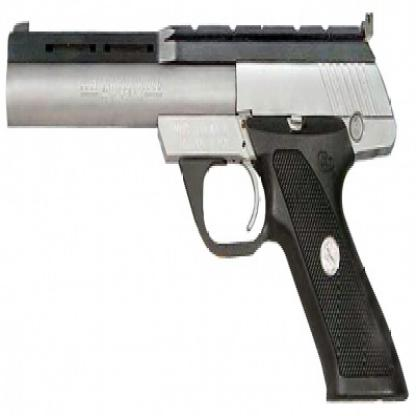Guns: (3, 2, 409, 406)
